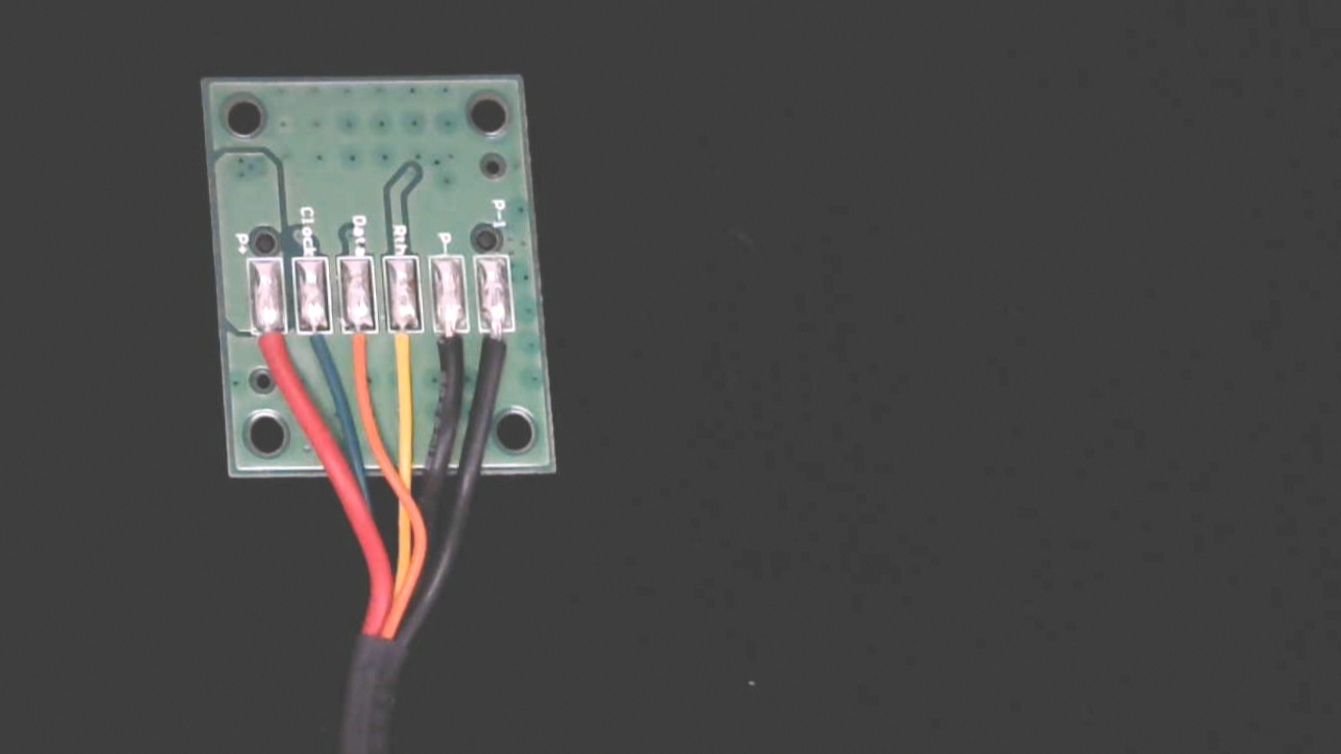Black: (430, 311, 470, 394)
Black1: (478, 310, 520, 392)
Green: (294, 310, 334, 386)
Orange: (342, 310, 379, 381)
Red: (250, 312, 288, 387)
Yellow: (386, 308, 423, 389)
